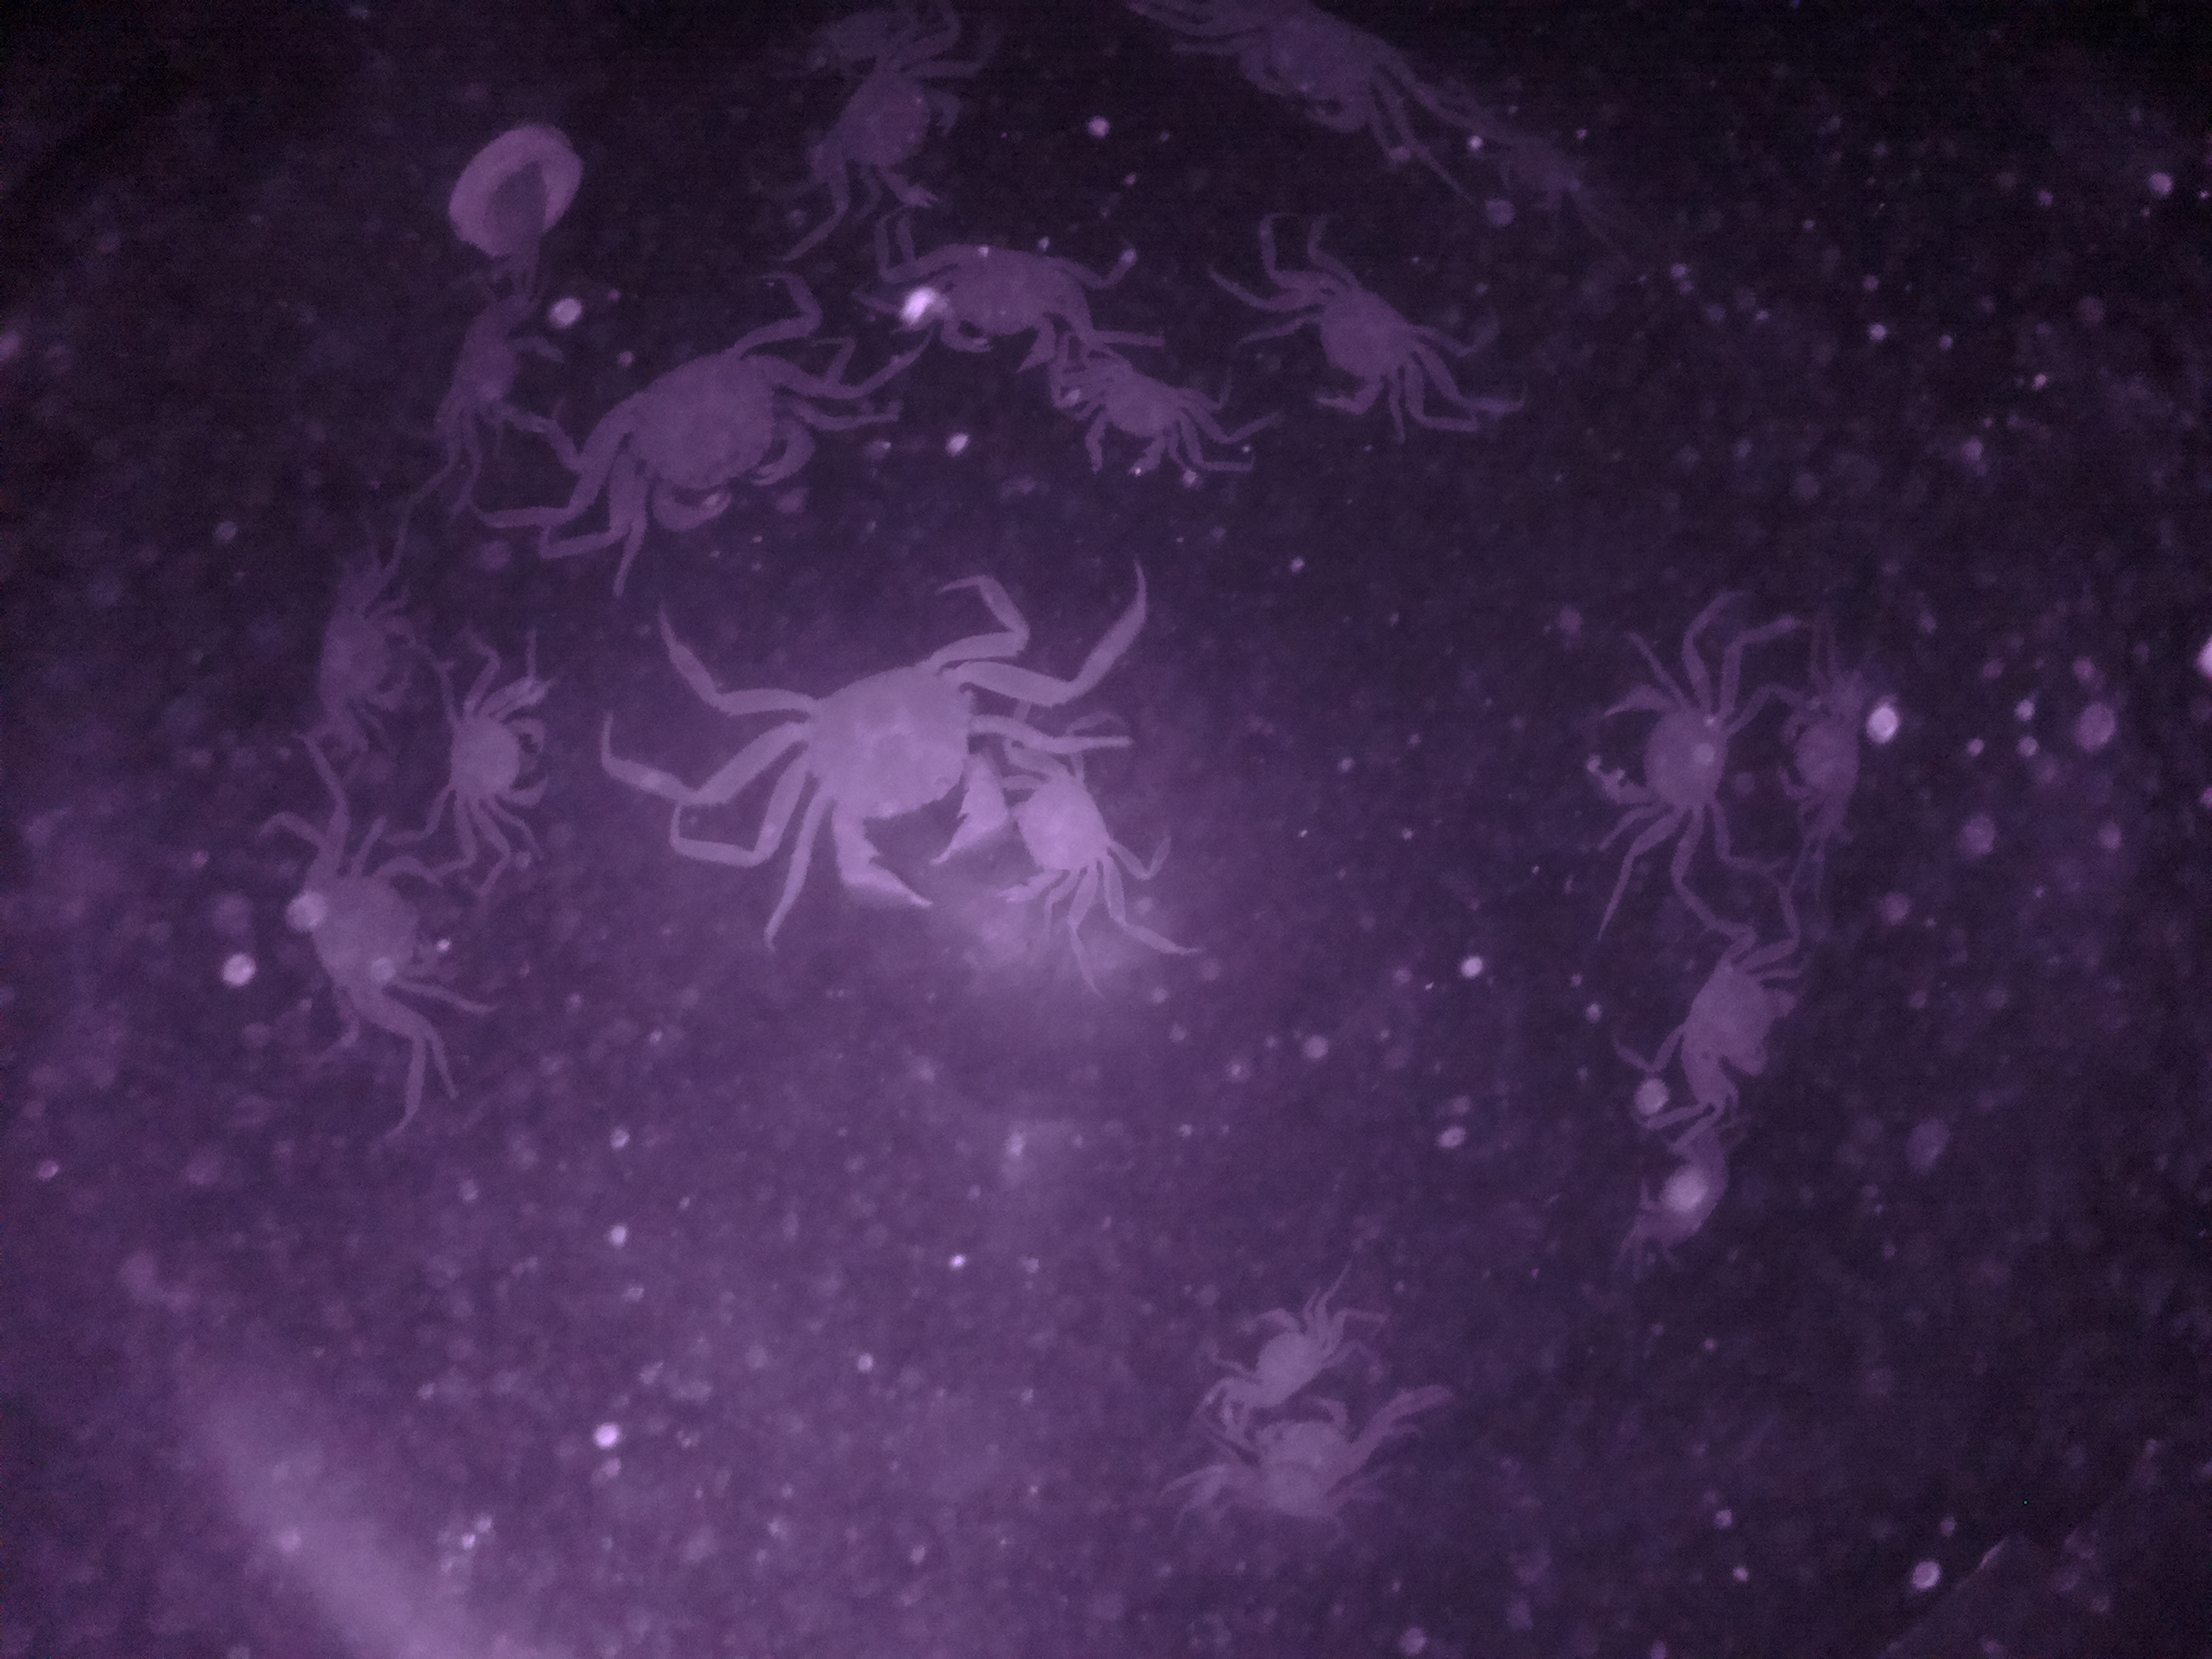Crab: (761, 612, 1015, 924), (566, 326, 812, 552), (1575, 652, 1771, 850), (786, 37, 993, 207), (280, 835, 458, 1030), (1648, 924, 1822, 1122), (1266, 253, 1463, 427), (991, 742, 1146, 932), (894, 227, 1089, 362), (1054, 349, 1223, 490), (1197, 1277, 1350, 1432), (428, 669, 571, 831), (294, 577, 428, 748)
